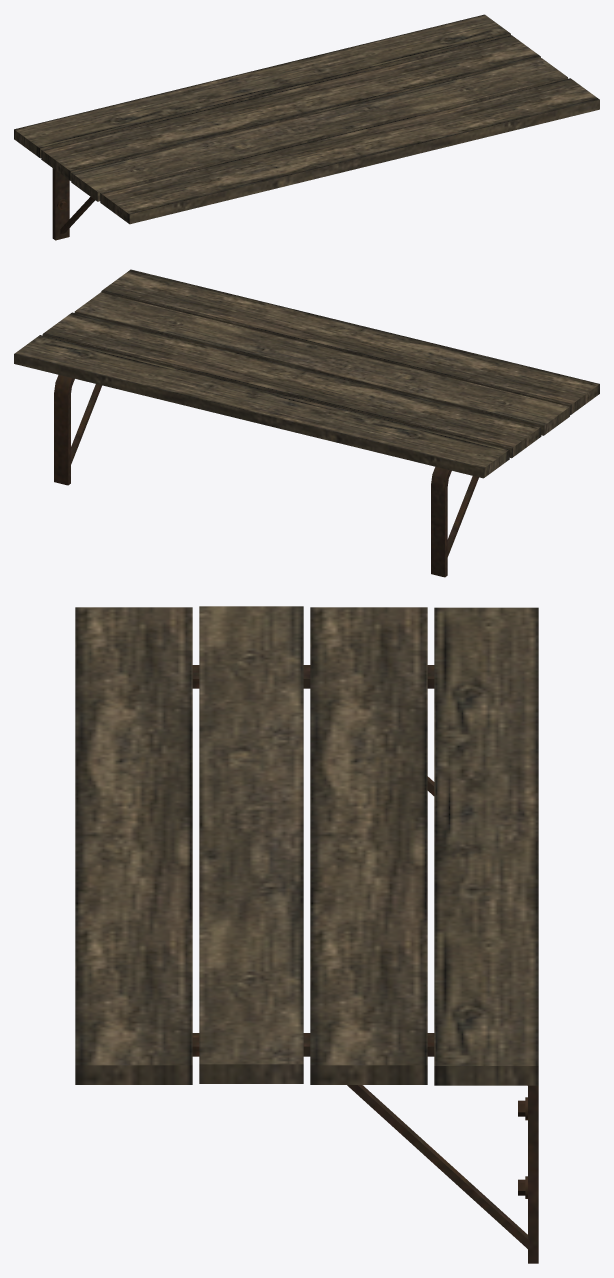
Rendered from hanging_shelf_mx_3.dae.
3 views of the same model, one above another, from view 1: azimuth 30°, elevation 25°; view 2: azimuth 150°, elevation 25°; view 3: azimuth 270°, elevation 25° (orthographic). The views are drawn at different scales.
Visible parts, largest first — view 1: hanging_shelf_mx_3; view 2: hanging_shelf_mx_3; view 3: hanging_shelf_mx_3.
Part boxes in pixels (x1=…): hanging_shelf_mx_3: x1=14, y1=14, x2=599, y2=240; hanging_shelf_mx_3: x1=14, y1=269, x2=599, y2=577; hanging_shelf_mx_3: x1=75, y1=606, x2=538, y2=1263.
Size of the model in its own units: 1 by 0.426 by 0.24.
Materials: 2 (2 with a texture image).
